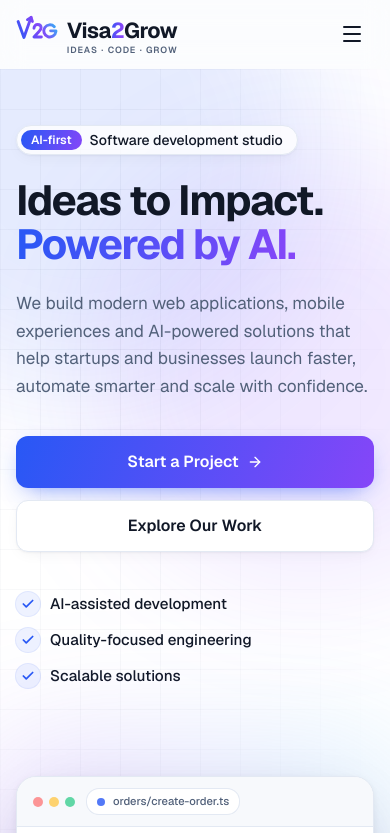
Scenario: Header navigation › closes the mobile menu after choosing a page
The width and height of the screenshot is (390, 833).
Click the button named "Open menu" at (352, 34), box [330, 12, 374, 56]
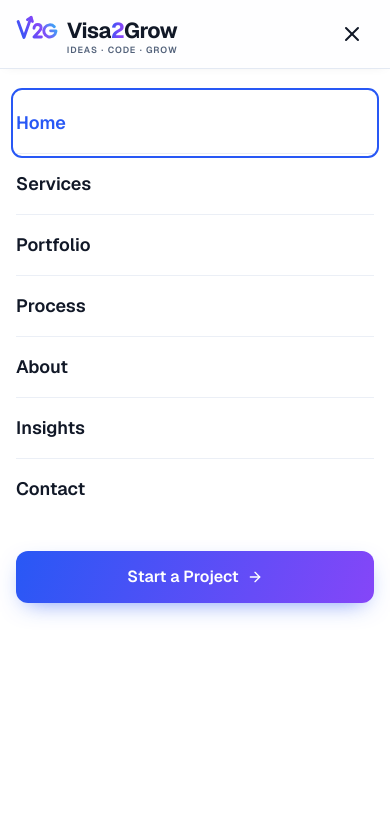
Click the link "About" at (42, 366), box [16, 355, 68, 378]
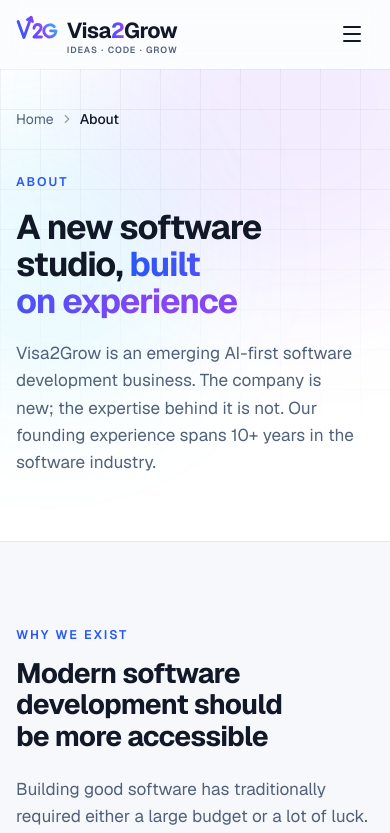
Expected: the heading "A new software studio, built on experience" is shown, [16, 205, 261, 323]
